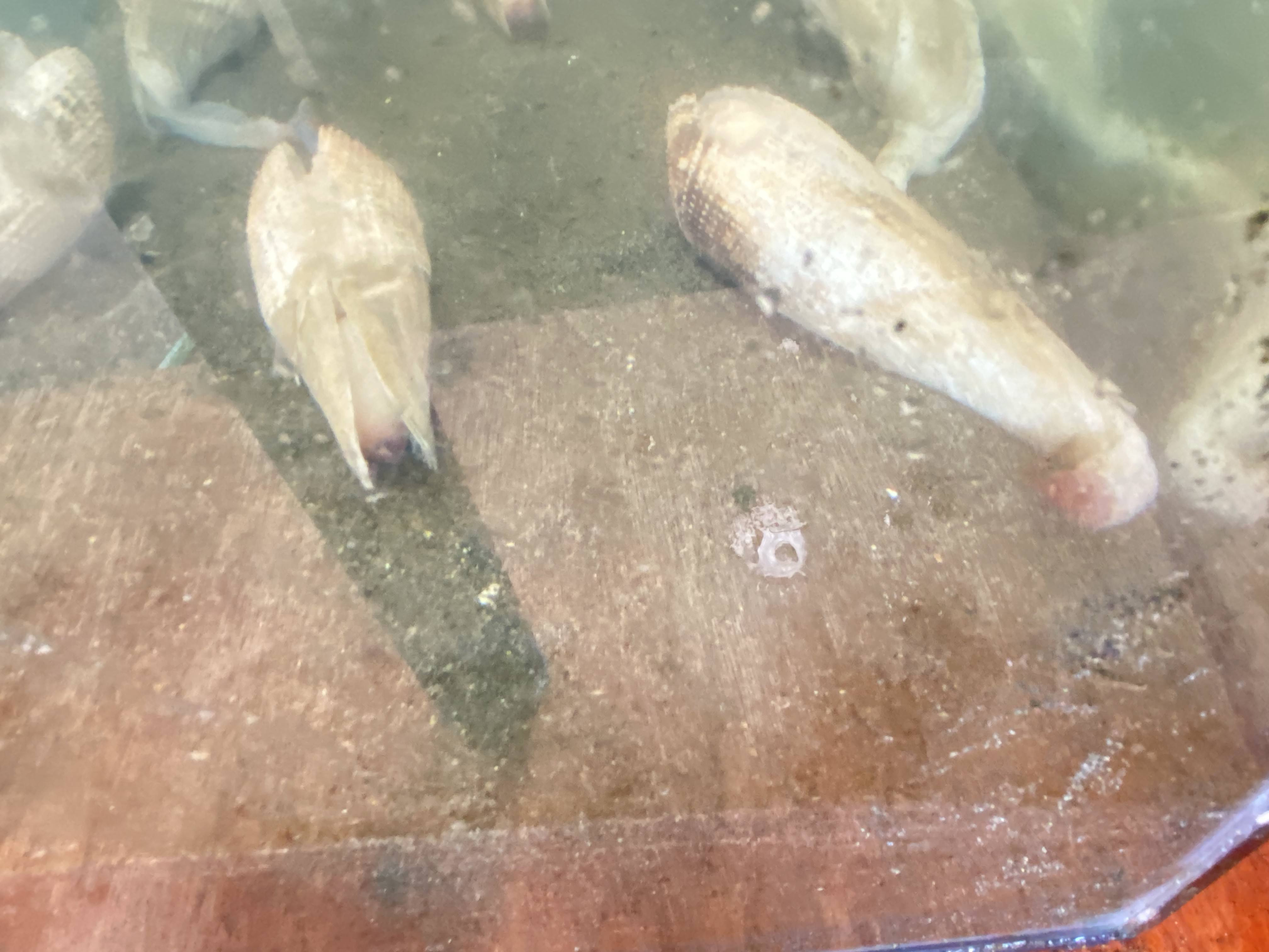At risk: (666, 86, 1156, 529), (246, 123, 436, 491), (803, 0, 984, 190)
